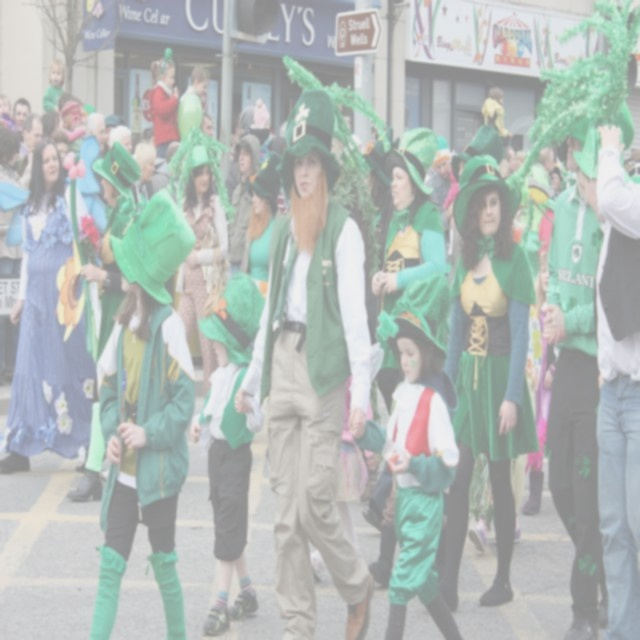pessoa: (226, 82, 376, 640), (540, 81, 640, 639), (89, 188, 197, 640), (344, 264, 472, 639), (436, 152, 540, 611), (574, 115, 640, 640), (0, 132, 96, 486), (184, 270, 270, 639), (62, 140, 142, 503), (362, 125, 448, 416), (442, 122, 506, 386), (176, 142, 230, 402), (522, 250, 568, 516), (0, 125, 36, 387), (237, 150, 287, 296), (360, 124, 394, 271), (424, 132, 456, 282), (228, 134, 260, 282), (329, 114, 366, 228), (496, 141, 568, 199), (147, 48, 180, 159), (150, 140, 188, 208), (248, 96, 276, 172), (130, 137, 156, 215), (481, 87, 513, 139), (60, 99, 84, 158), (42, 58, 64, 114), (179, 64, 209, 104), (50, 128, 70, 184), (20, 110, 46, 152), (230, 102, 256, 143), (58, 91, 86, 127), (83, 111, 107, 152), (12, 97, 32, 145), (270, 113, 292, 156), (108, 122, 133, 157), (101, 115, 121, 158), (622, 143, 640, 184), (198, 109, 215, 142), (40, 111, 59, 138), (0, 92, 12, 116)
